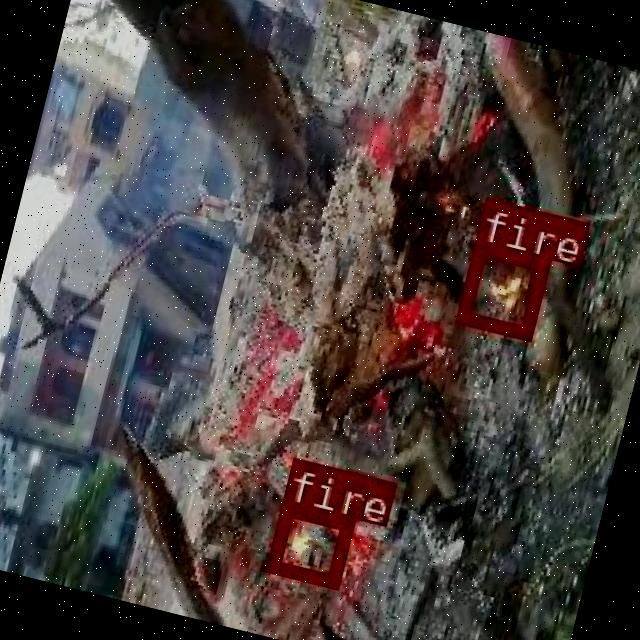fire: (453, 238, 547, 337), (263, 500, 352, 585)
